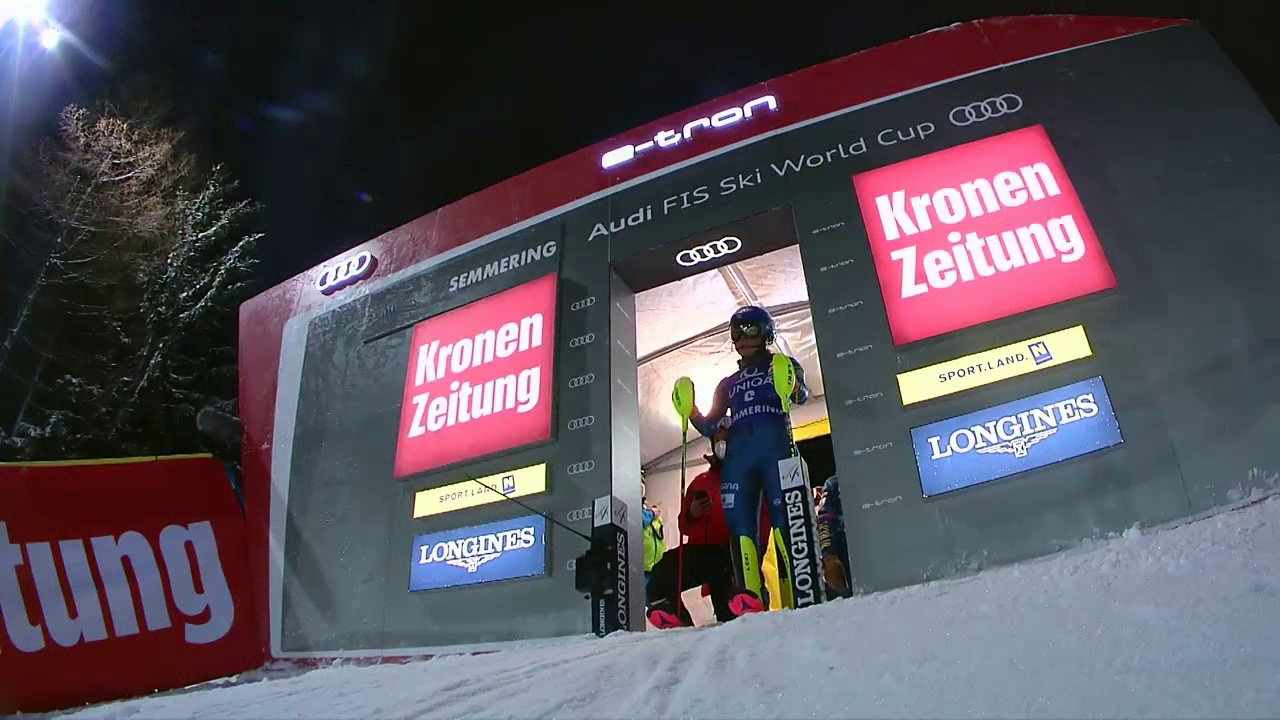audi: (312, 245, 380, 299), (941, 91, 1030, 128), (667, 236, 754, 270), (568, 331, 604, 353), (565, 457, 598, 481), (567, 371, 604, 392), (566, 413, 599, 435), (570, 294, 602, 315)
kronenzeitung: (1, 479, 236, 669), (884, 160, 1076, 304), (411, 301, 535, 451)
longines: (926, 385, 1106, 490), (413, 519, 546, 588), (784, 482, 826, 612)
